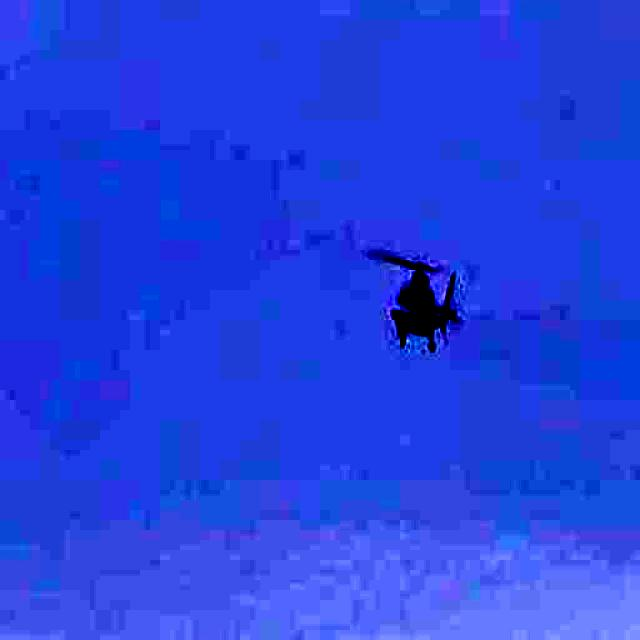drone: (331, 218, 509, 374)
